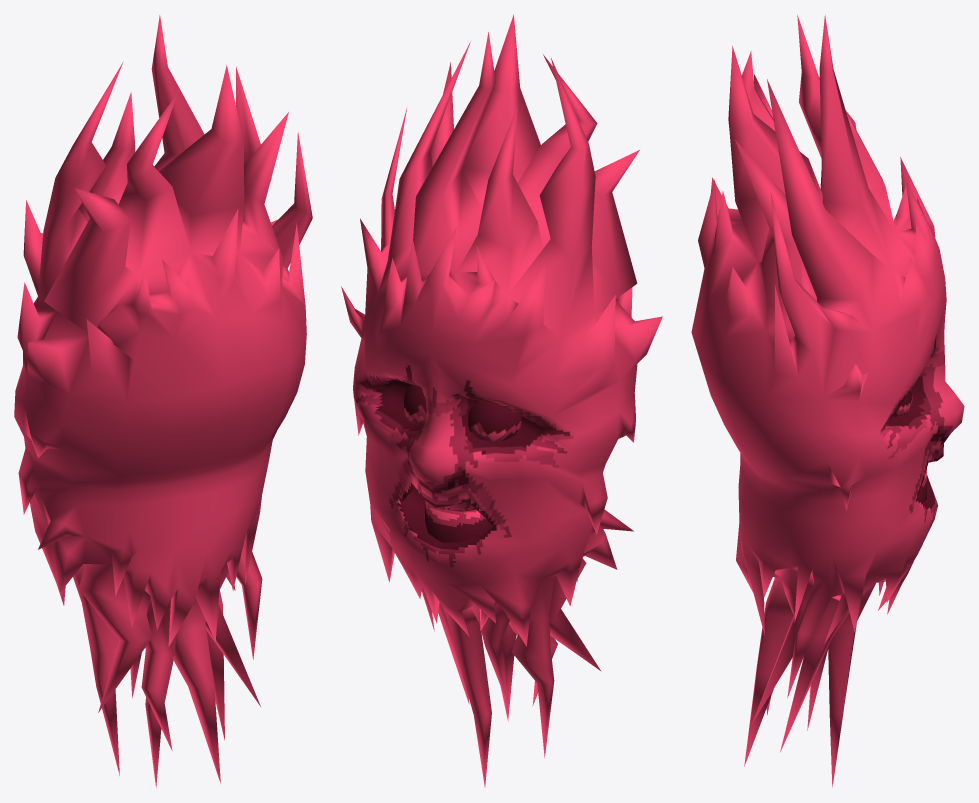
Rendered from spirit.glb.
3 views of the same model, side by side, from view 1: azimuth 30°, elevation 25°; view 2: azimuth 150°, elevation 25°; view 3: azimuth 270°, elevation 25° (orthographic). The views are drawn at different scales.
Parts seen in each view (by area): view 1: Spirit eye; view 2: Spirit eye; view 3: Spirit eye.
Part boxes in pixels (x1=…): Spirit eye: x1=14, y1=15, x2=312, y2=787; Spirit eye: x1=341, y1=14, x2=662, y2=787; Spirit eye: x1=691, y1=15, x2=964, y2=787.
Size of the model in its own units: 2.57 by 6.52 by 2.08.
1 material, 1 textured.
